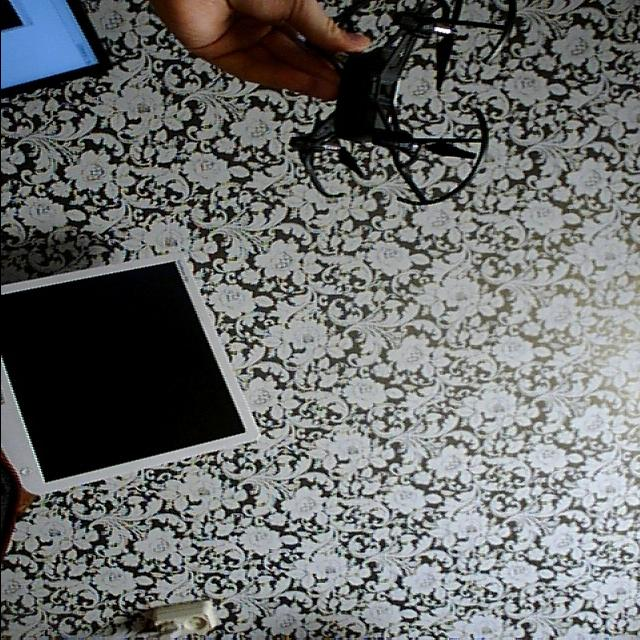drone: (274, 0, 546, 213)
